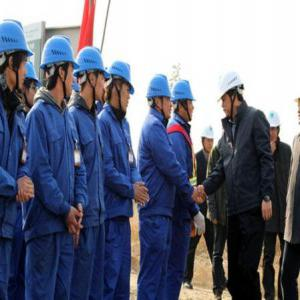blue: (40, 35, 76, 101), (73, 46, 107, 105), (2, 20, 28, 93), (106, 59, 134, 114), (146, 74, 174, 120), (169, 78, 195, 124), (20, 61, 38, 108)
white: (216, 70, 246, 120), (266, 110, 282, 146), (201, 124, 215, 152)
